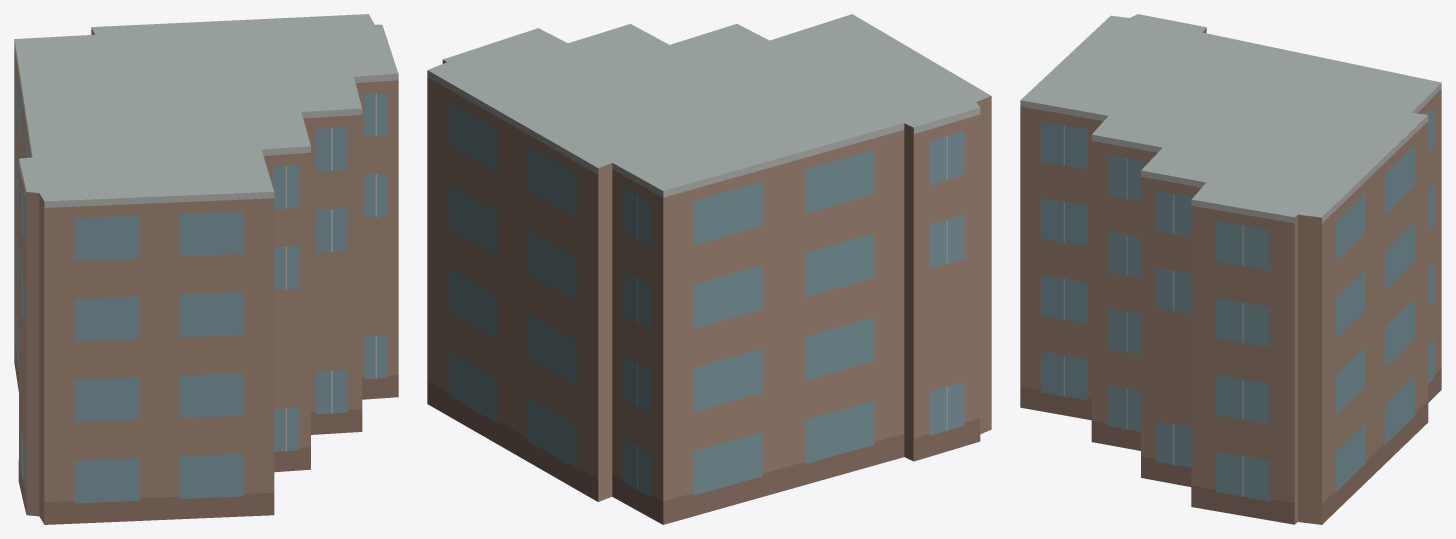
The model's file is survey-upis-32572603.glb.
3 views of the same model, side by side, from view 1: azimuth 30°, elevation 25°; view 2: azimuth 150°, elevation 25°; view 3: azimuth 270°, elevation 25° (orthographic). The views are drawn at different scales.
Visible parts, largest first — view 1: survey-upis-32572603.tmp; view 2: survey-upis-32572603.tmp; view 3: survey-upis-32572603.tmp.
Boxes of the visible parts, left/top/right/bottom form: survey-upis-32572603.tmp: left=14, top=14, right=398, bottom=524; survey-upis-32572603.tmp: left=427, top=14, right=991, bottom=524; survey-upis-32572603.tmp: left=1020, top=14, right=1441, bottom=524.
Bounding box in the file's own units: 17.33 × 12.2 × 15.16.
